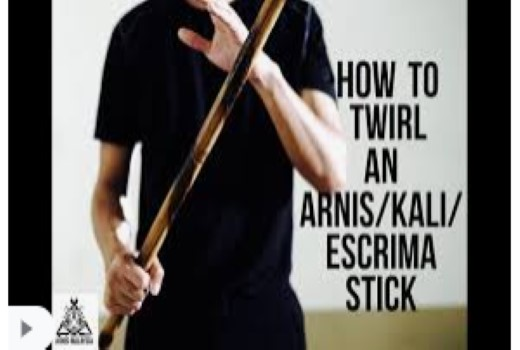baston_e: (100, 11, 281, 331)
